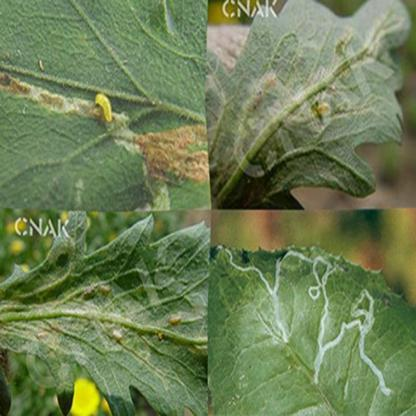whorl-maggot: (95, 83, 119, 130), (167, 312, 183, 334)
